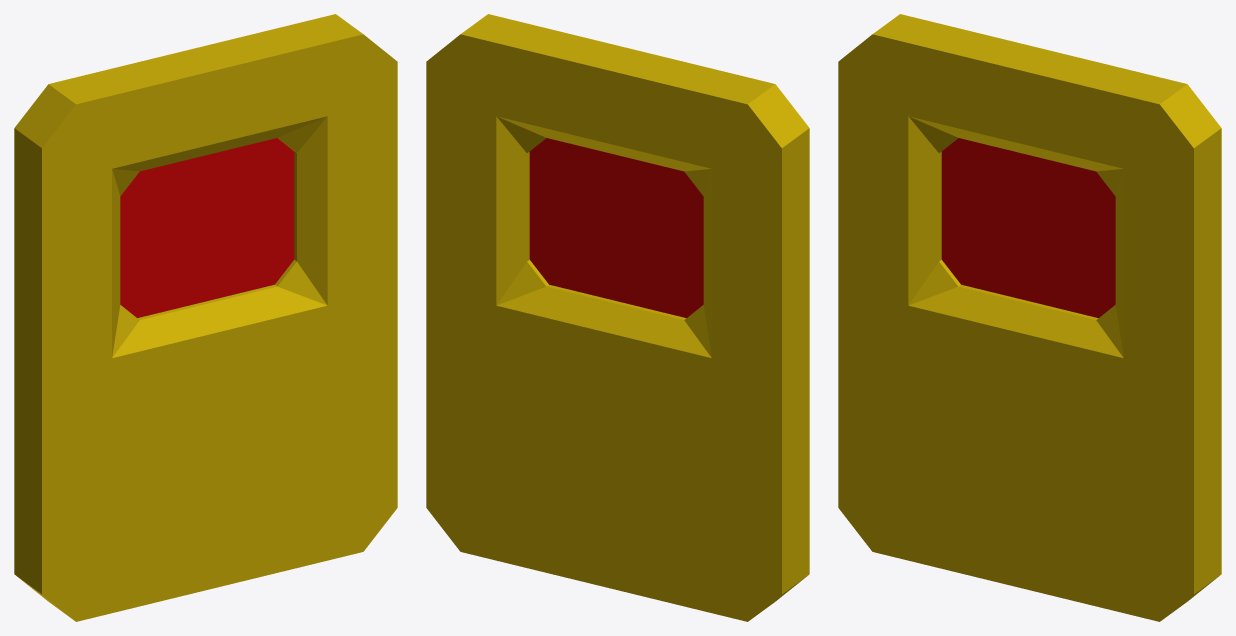
The model's file is shipdoor.obj.
3 renders of one model, left to right at view 1: azimuth 30°, elevation 25°; view 2: azimuth 150°, elevation 25°; view 3: azimuth 330°, elevation 25°, orthographic.
Parts seen in each view (by area): view 1: Door; view 2: Door; view 3: Door.
Boxes of the visible parts, box(x1,y1,x2,y2) form: Door: box(14, 14, 397, 621); Door: box(426, 14, 809, 621); Door: box(838, 14, 1221, 621).
Size of the model in its own units: 1.82 by 2.53 by 0.2455.
